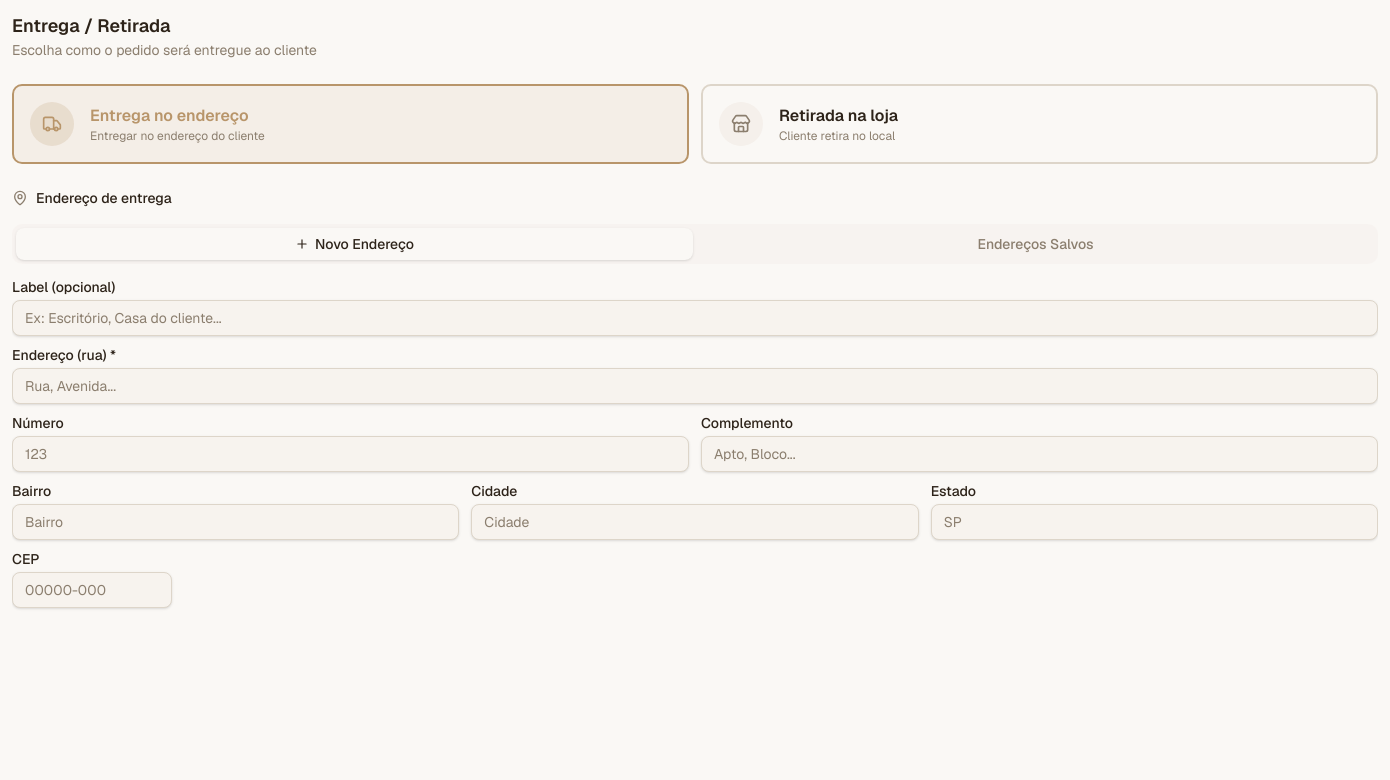
Scenario: EntregaStep › shows empty state in saved tab when no addresses
What coordinates should you click on to do the following:
click the button with test id "tab-saved-addresses"
I would click on:
 (1036, 244)
Its box is left=697, top=228, right=1374, bottom=260.
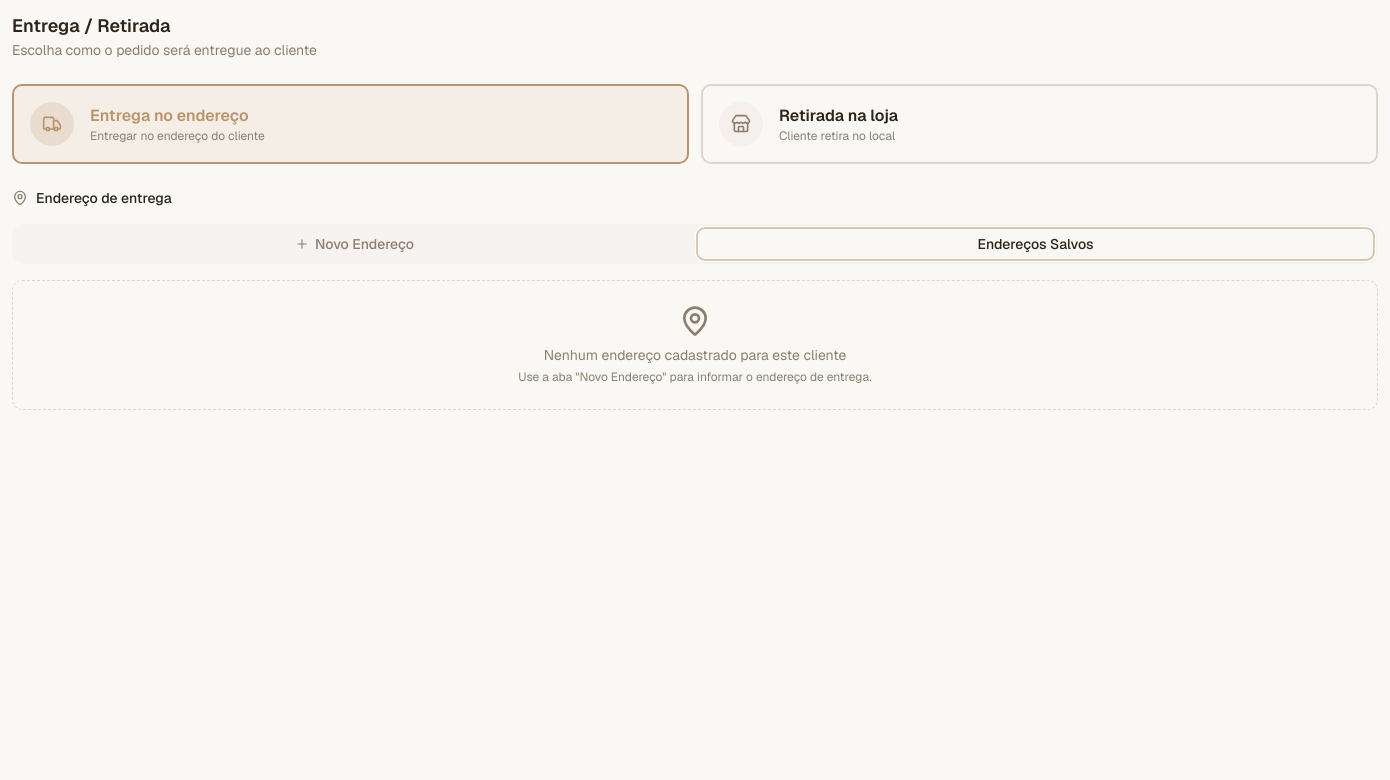
Expected: the text "Nenhum endereço cadastrado para este cliente" is shown, left=544, top=346, right=846, bottom=364
